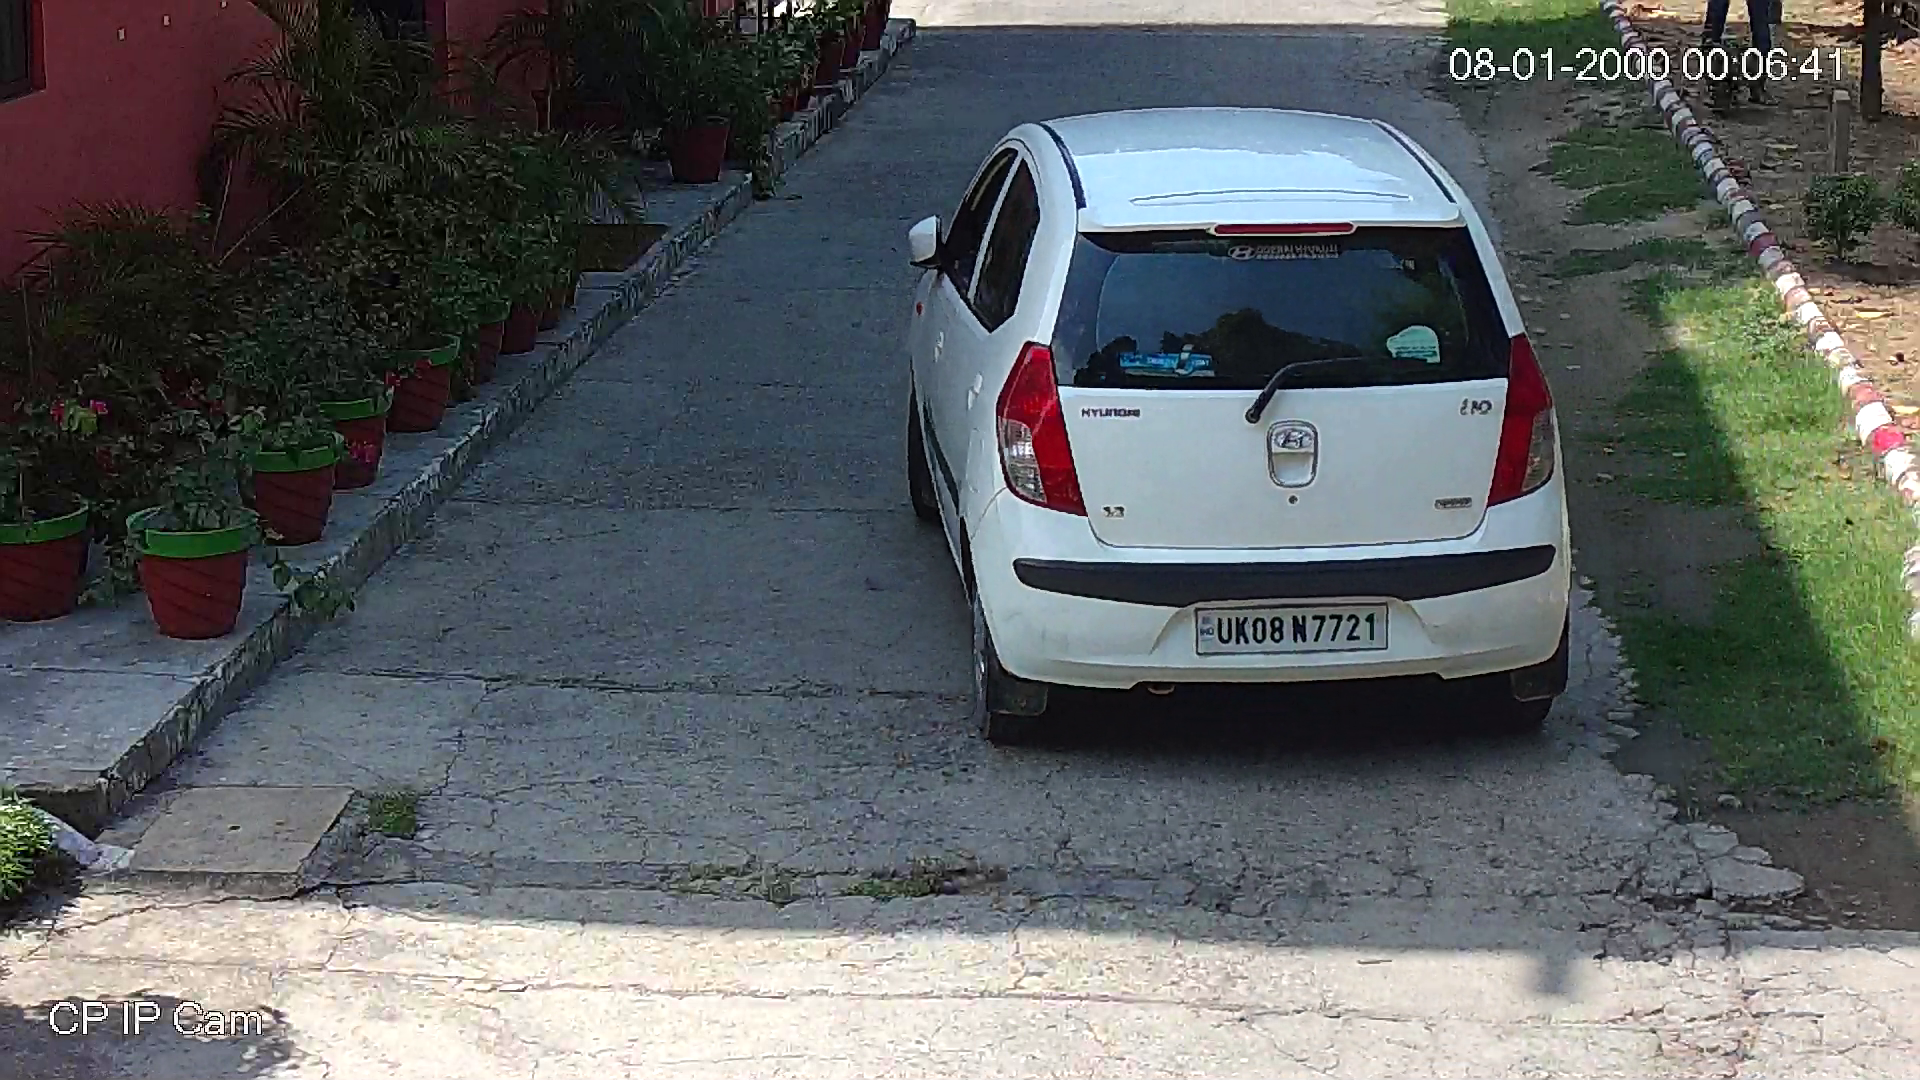plate: (1198, 605, 1385, 657)
